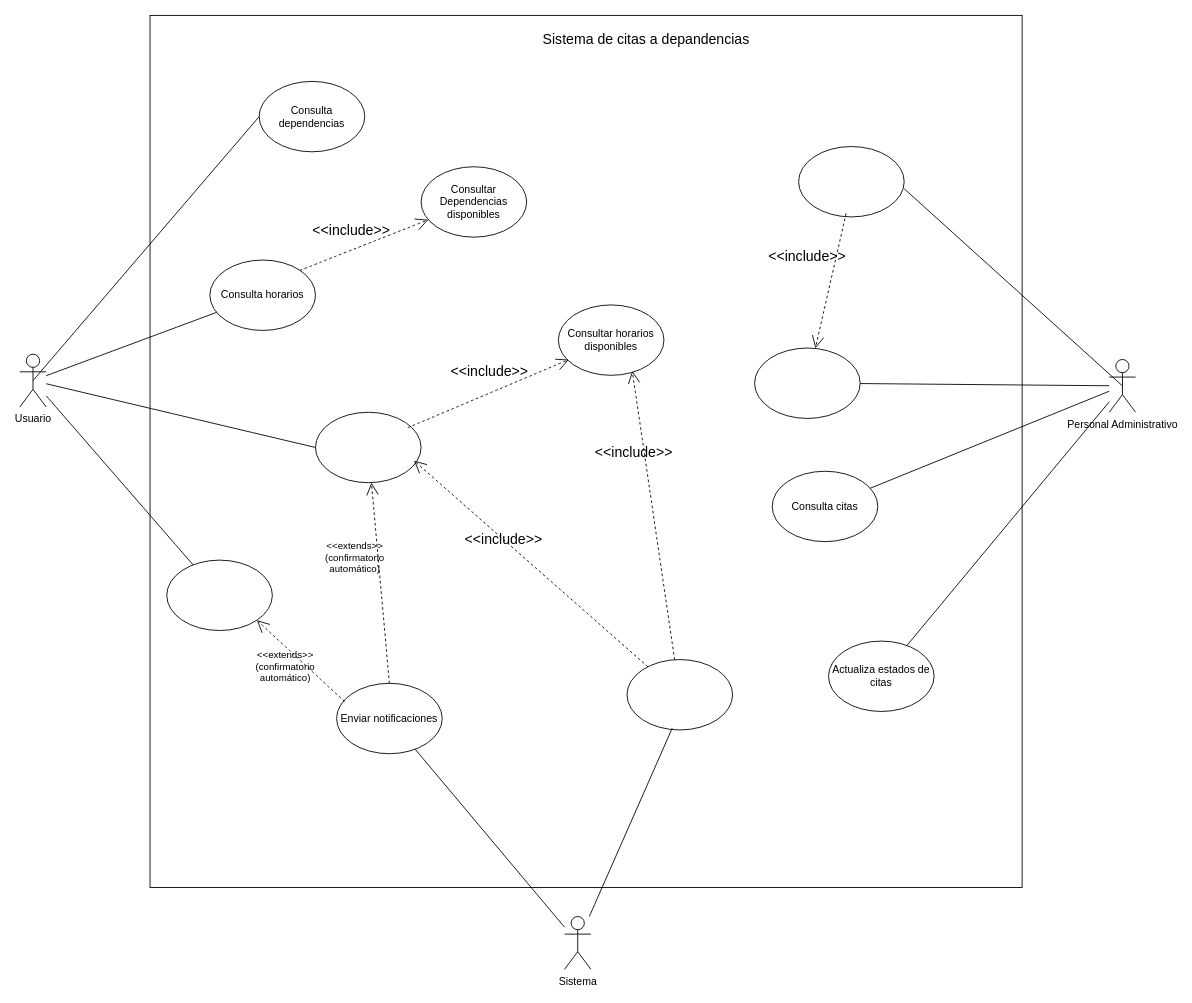
Image size: 1192x1003. Some labels were removed from this diagram. The centre of each missing label's shape, as x and y in pixels:
Agenda citas: (x=368, y=447)
Cancela cita: (x=219, y=595)
Consulta disponibilidad: (x=807, y=382)
Gestiona horarios: (x=851, y=181)
Validar disponibilidad: (x=679, y=694)
